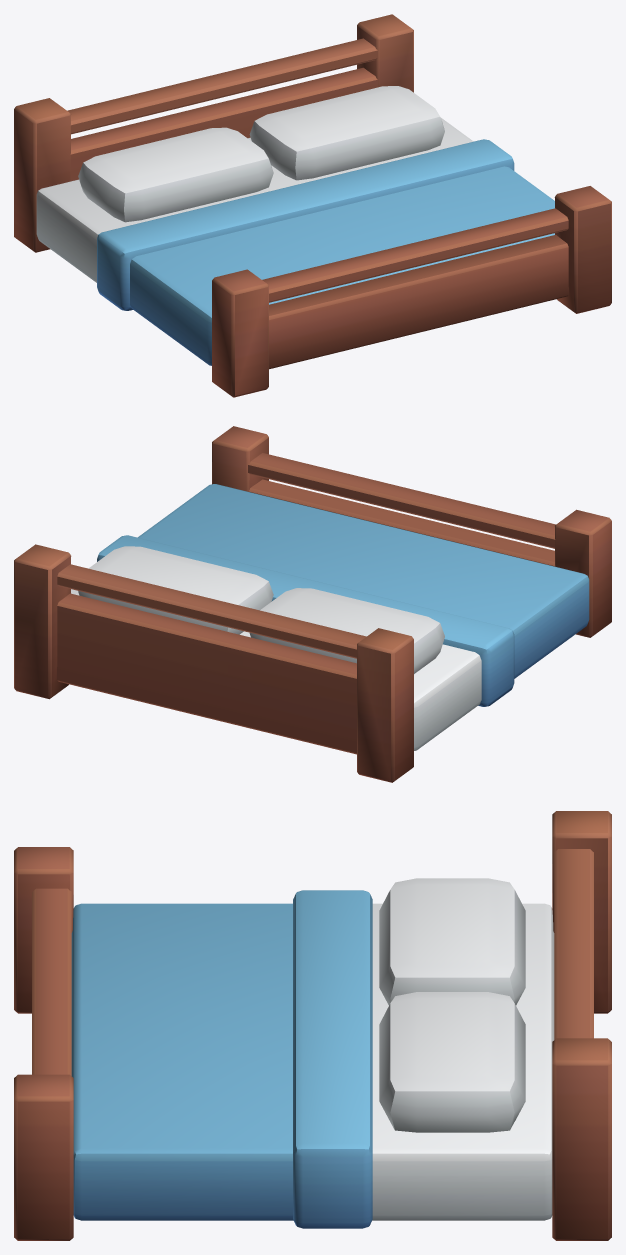
The model's file is bed_double_B.glb.
The picture shows the model from 3 angles, top to bottom: view 1: azimuth 30°, elevation 25°; view 2: azimuth 150°, elevation 25°; view 3: azimuth 270°, elevation 25°; orthographic projection. The views are drawn at different scales.
Visible parts, largest first — view 1: bed_double_B; view 2: bed_double_B; view 3: bed_double_B.
Boxes of the visible parts, x1=… form: bed_double_B: x1=14, y1=14, x2=611, y2=397; bed_double_B: x1=14, y1=426, x2=611, y2=782; bed_double_B: x1=14, y1=811, x2=611, y2=1240.
Bounding box in the file's own units: 3.1 × 0.9999 × 3.
Materials: 1 (1 with a texture image).
